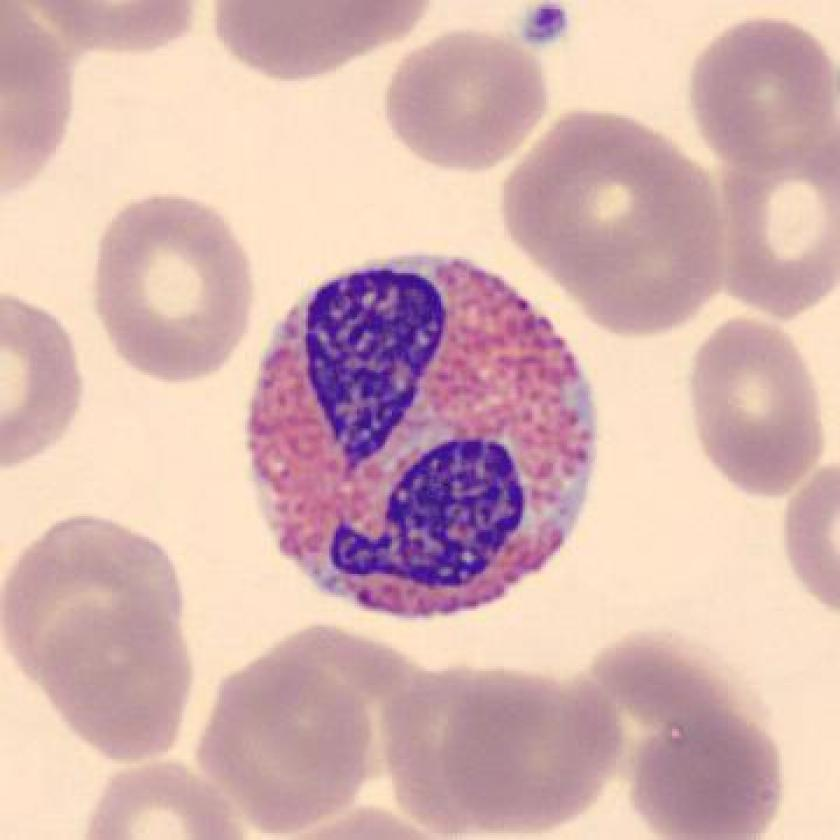eosinophil: (227, 244, 608, 635)
